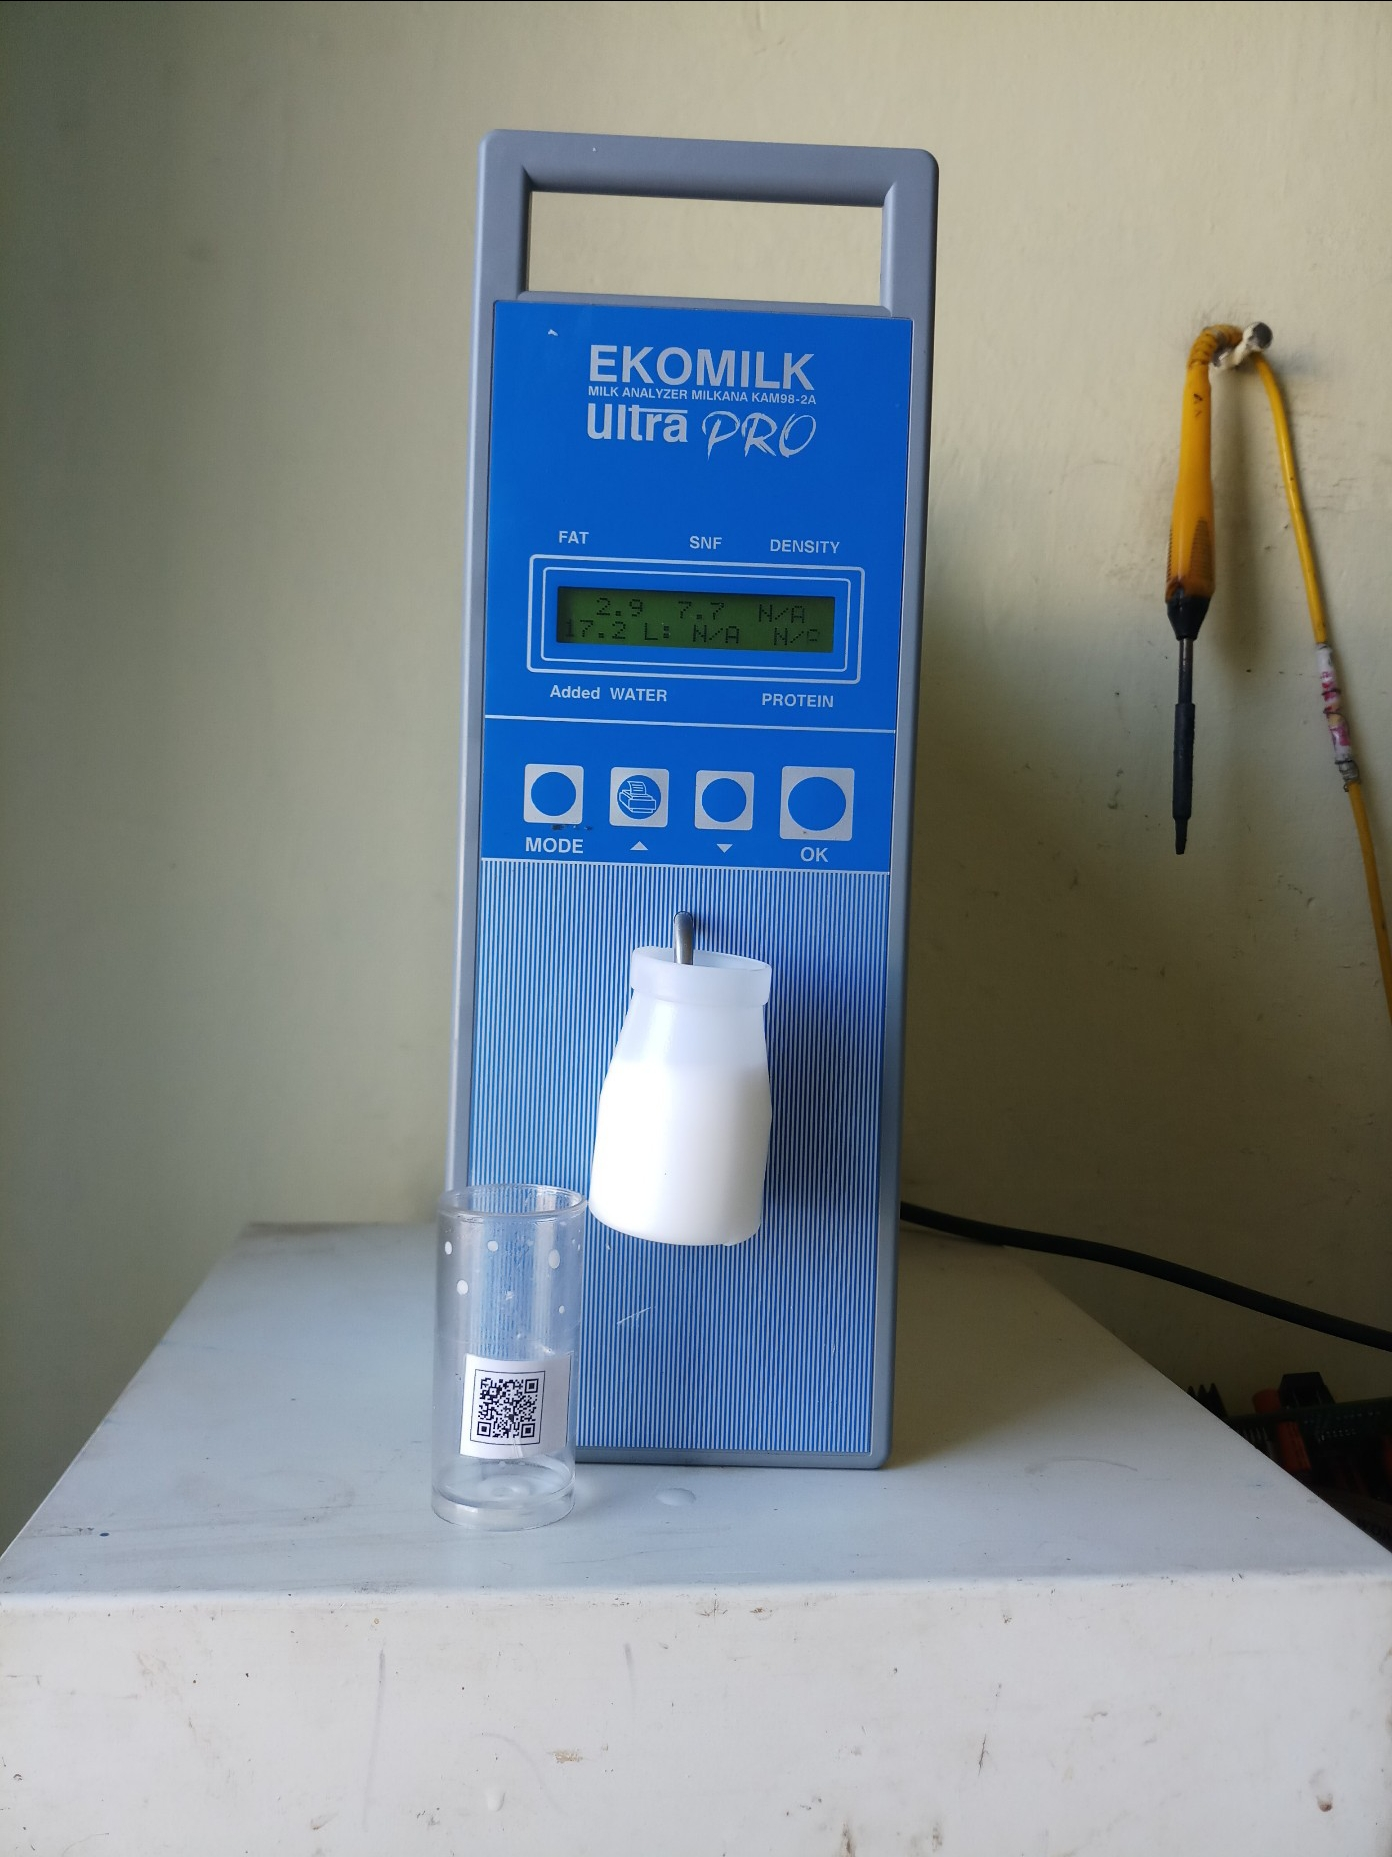lcd: (551, 582, 848, 671)
qr: (464, 1366, 563, 1453)
